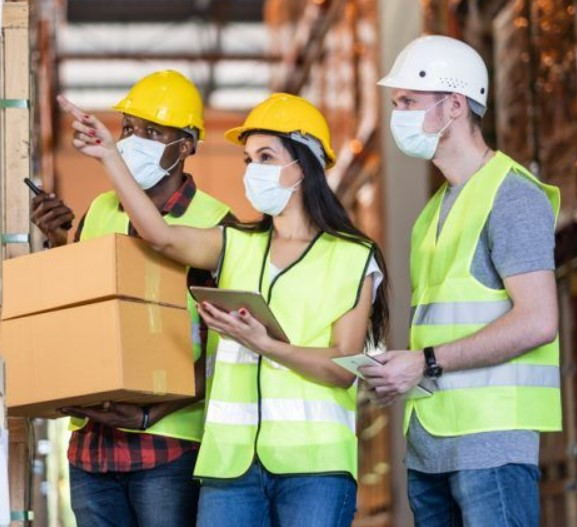worker: (378, 37, 559, 435), (204, 95, 365, 476)
